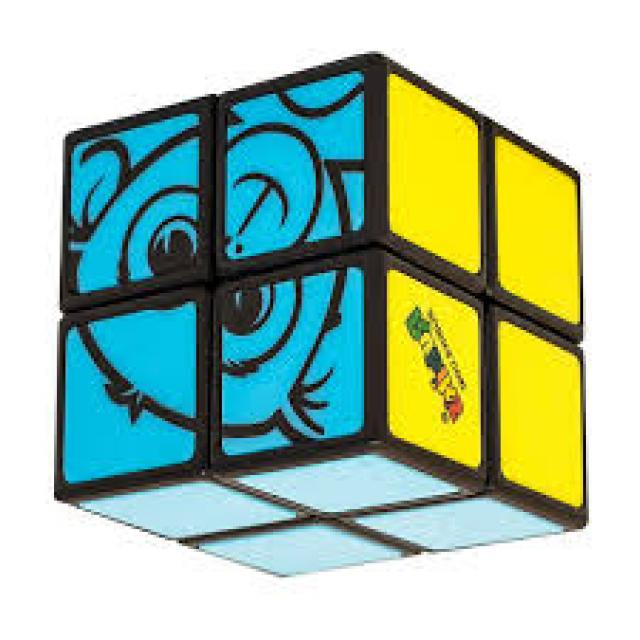cube: (62, 56, 584, 580)
